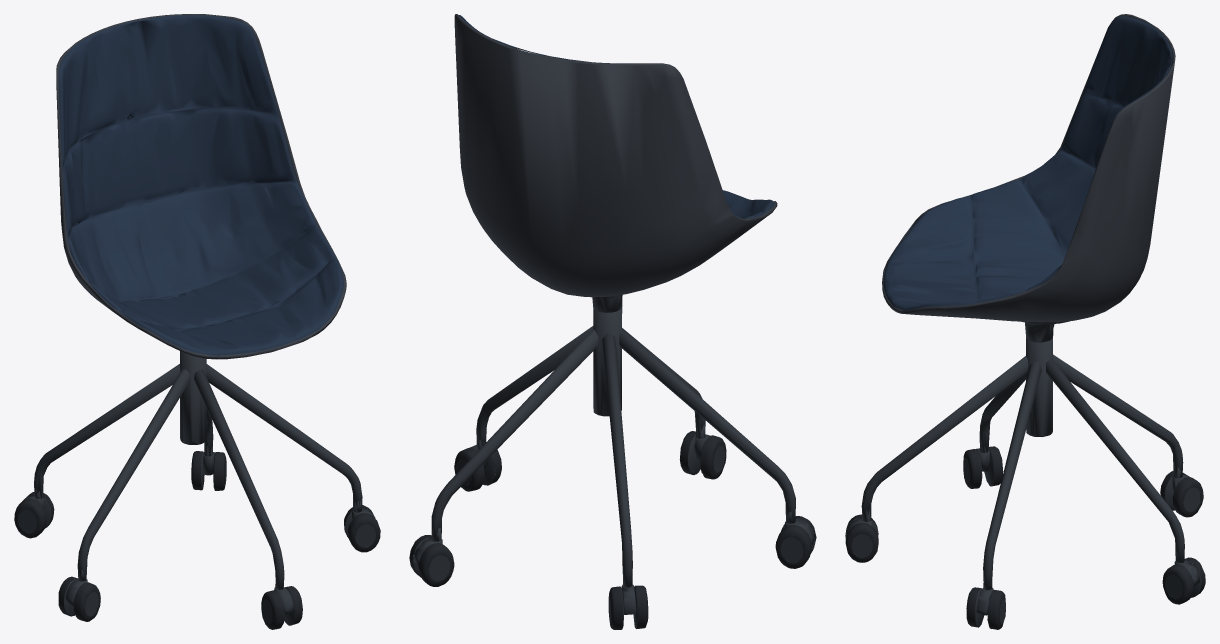
The model's file is office-chair.glb.
3 renders of one model, left to right at view 1: azimuth 30°, elevation 25°; view 2: azimuth 150°, elevation 25°; view 3: azimuth 270°, elevation 25°, orthographic. The views are drawn at different scales.
Visible parts, largest first — view 1: Group8#3 [3343287].001, Group6#3 [3343285].001, Group9#3 [3343288].001, Group7#3 [3343286].001; view 2: Group7#3 [3343286].001, Group6#3 [3343285].001, Group9#3 [3343288].001, Group8#3 [3343287].001; view 3: Group8#3 [3343287].001, Group7#3 [3343286].001, Group6#3 [3343285].001, Group9#3 [3343288].001.
Part boxes in pixels (box(x1,y1,x2,y2)): Group8#3 [3343287].001: box(58, 15, 343, 355); Group6#3 [3343285].001: box(18, 351, 378, 625); Group9#3 [3343288].001: box(14, 451, 380, 629); Group7#3 [3343286].001: box(56, 14, 346, 359); Group7#3 [3343286].001: box(454, 14, 777, 297); Group6#3 [3343285].001: box(412, 294, 814, 628); Group9#3 [3343288].001: box(409, 431, 816, 629); Group8#3 [3343287].001: box(459, 15, 774, 222); Group8#3 [3343287].001: box(883, 16, 1172, 310); Group7#3 [3343286].001: box(882, 14, 1175, 322); Group6#3 [3343285].001: box(845, 321, 1201, 628); Group9#3 [3343288].001: box(845, 446, 1205, 629).
Bounding box in the file's own units: 0.6486 × 0.96 × 0.6265.
